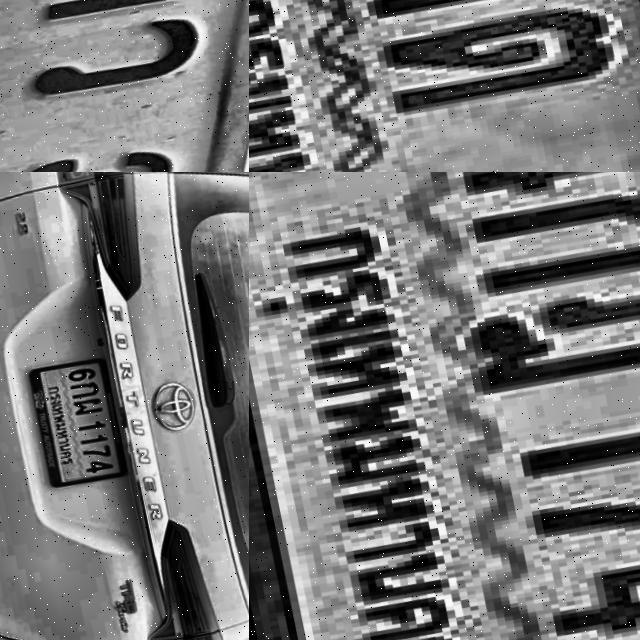license-plate: (249, 172, 640, 640), (249, 0, 640, 172), (0, 0, 249, 172), (24, 348, 135, 489)
